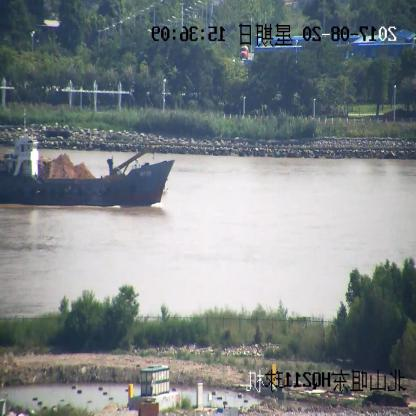Bulk Carrier: (1, 112, 173, 208)
